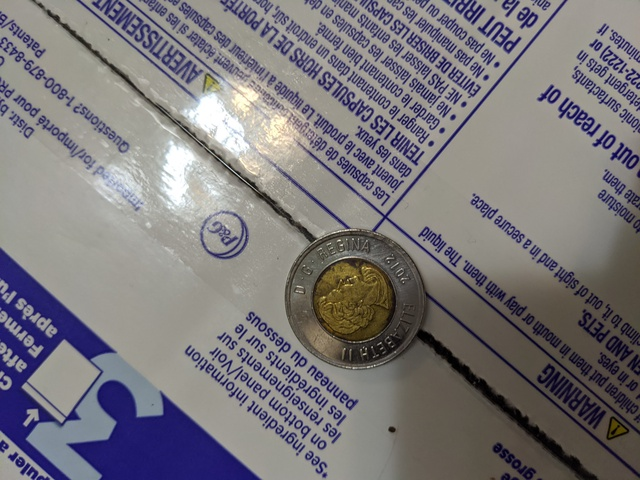twonie: (273, 215, 435, 374)
